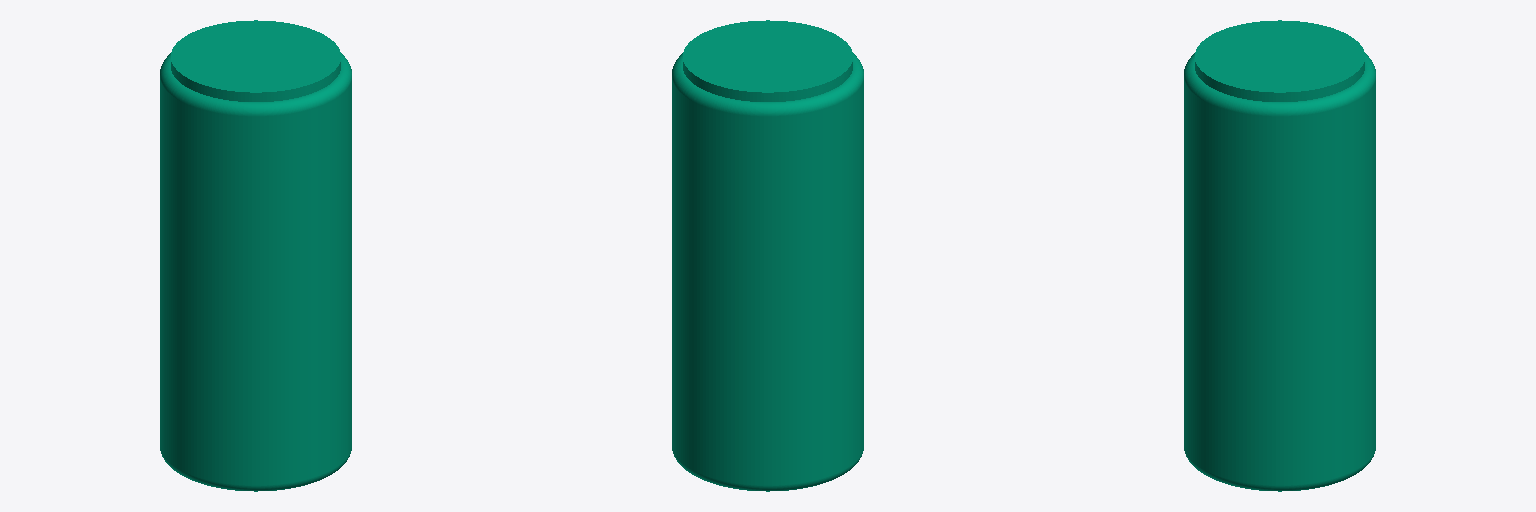
The robot description file, URDF, robot "lysol.urdf":
<?xml version="0.0" ?>
<robot name="lysol.urdf">
  <link name="baseLink">
    <contact>
      <lateral_friction value="1.0"/>
      <inertia_scaling value="3.0"/>
    </contact>
    <inertial>
      <origin rpy="0 0 0" xyz="0 0 0"/>
       <mass value=".2"/>
       <inertia ixx="0.1" ixy="0" ixz="0" iyy="0.1" iyz="0" izz="0.1"/>
    </inertial>
    <visual>
      <origin rpy="0 0 0" xyz="0 0 0"/>
      <geometry>
        <mesh filename="lysol.stl" scale="1 1 1"/>
      </geometry>
      <material name="blue">
        <color rgba="0.04 0.65 0.52 0.8"/>
      </material>
    </visual>
    <collision>
      <origin rpy="0 0 0" xyz="0 0 0"/>
      <geometry>
	 	<!-- <cylinder radius="0.05" length="0.15"/> -->
    <box size="0.005 0.005 0.005"/>
      </geometry>
    </collision>
  </link>
</robot>

--- Facts derived from the render (not from the file) ---
The picture shows the robot from 3 angles, left to right: view 1: azimuth 30°, elevation 25°; view 2: azimuth 150°, elevation 25°; view 3: azimuth 270°, elevation 25°; orthographic projection.
Model lysol.urdf with 1 links and 0 joints (none), rooted at baseLink, posed every joint at zero.
Visible links, largest first — view 1: baseLink; view 2: baseLink; view 3: baseLink.
Boxes of the visible links, x1=… form: baseLink: x1=160, y1=20, x2=351, y2=491; baseLink: x1=672, y1=20, x2=863, y2=491; baseLink: x1=1184, y1=20, x2=1375, y2=491.
Bounding box of the posed robot: 0.09 × 0.09 × 0.205 m (x, y, z).
1 mesh visuals loaded from 1 distinct referenced files (1 binary STL).